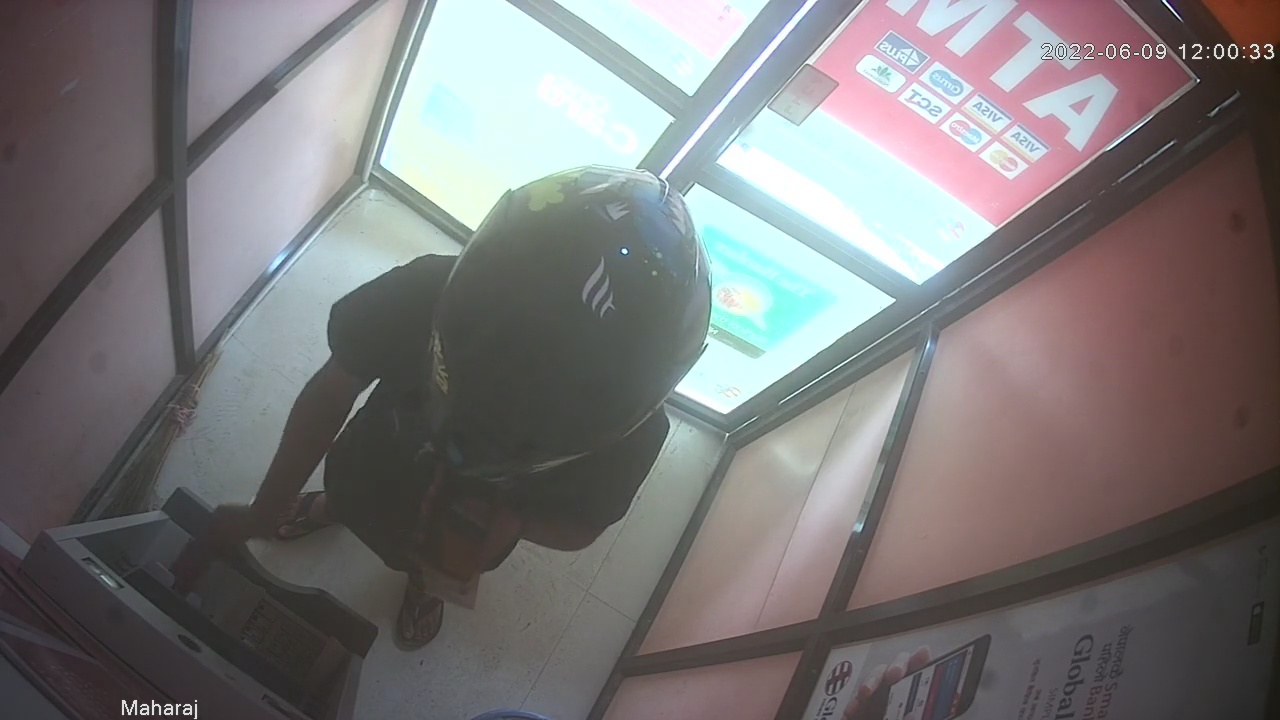helmet: (420, 163, 711, 482)
person: (192, 161, 712, 655)
